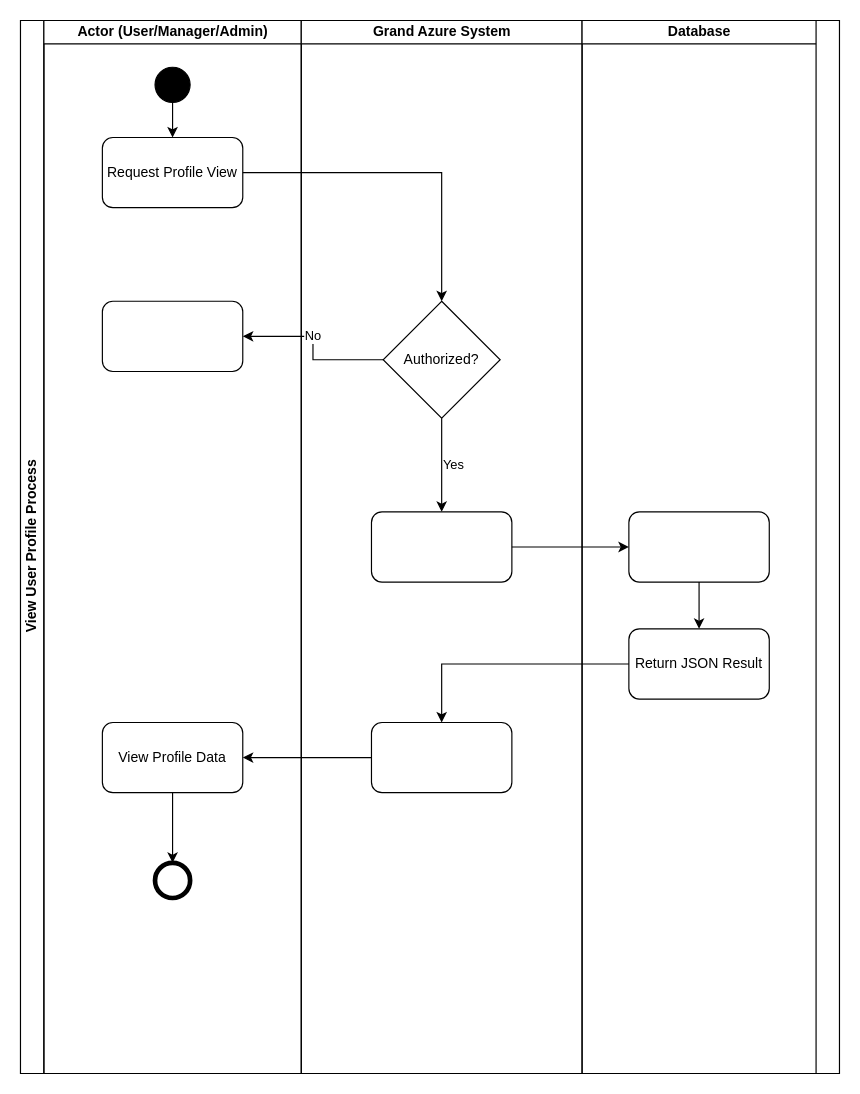
Some shapes in this 860 by 1094 pixel diagram are drawn without their labels. Each missing label, with the centre of its shape:
"Fetch Record" goes at (698,546).
"Render Profile Page" goes at (441,757).
"Request Data from DB" goes at (441,546).
"Show Access Denied" goes at (172,335).
